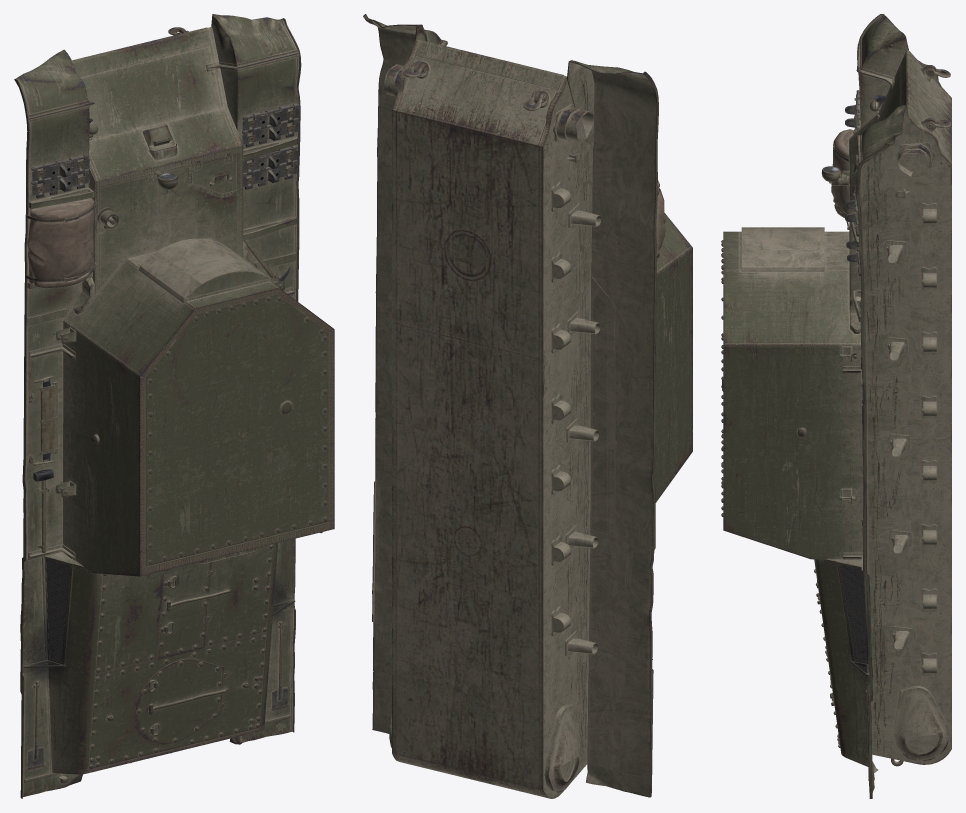
Rendered from Hull.glb.
The picture shows the model from 3 angles, left to right: view 1: azimuth 30°, elevation 25°; view 2: azimuth 150°, elevation 25°; view 3: azimuth 270°, elevation 25°; orthographic projection. The views are drawn at different scales.
Parts seen in each view (by area): view 1: set_0_group_0; view 2: set_0_group_0; view 3: set_0_group_0.
Part boxes in pixels (box(x1,y1,x2,y2)): set_0_group_0: box(14, 14, 334, 798); set_0_group_0: box(363, 14, 692, 798); set_0_group_0: box(721, 14, 951, 798).
Bounding box in the file's own units: 3.46 × 8.63 × 2.7.
1 material, 1 textured.
